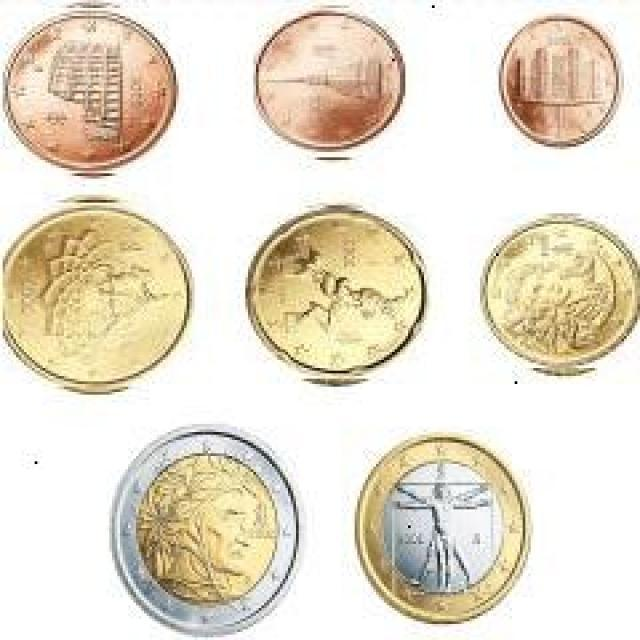10c: (478, 215, 638, 373)
1c: (498, 14, 624, 150)
1e: (351, 430, 536, 626)
20c: (245, 205, 430, 380)
2c: (250, 11, 404, 152)
2e: (108, 427, 304, 635)
50c: (0, 202, 195, 390)
5c: (4, 7, 180, 174)
